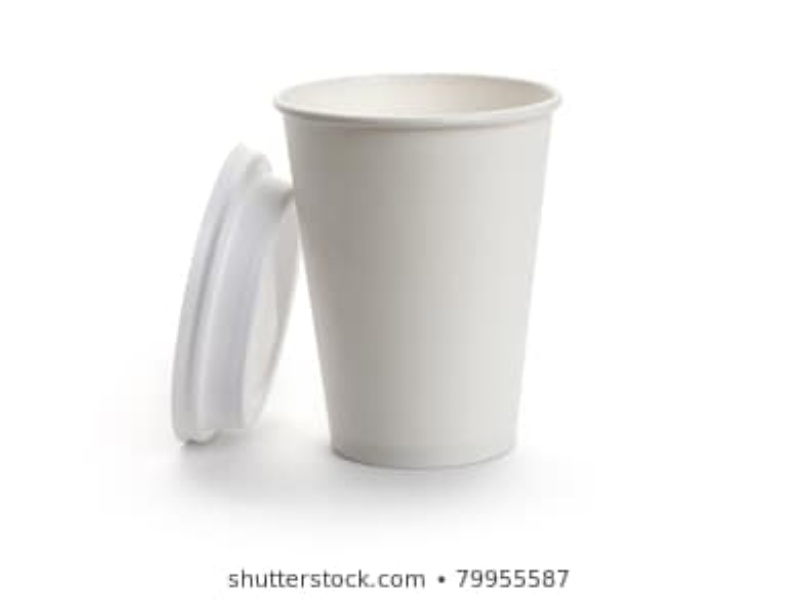coffee-lid: (166, 134, 299, 460)
plastic-cup: (271, 68, 561, 476)
